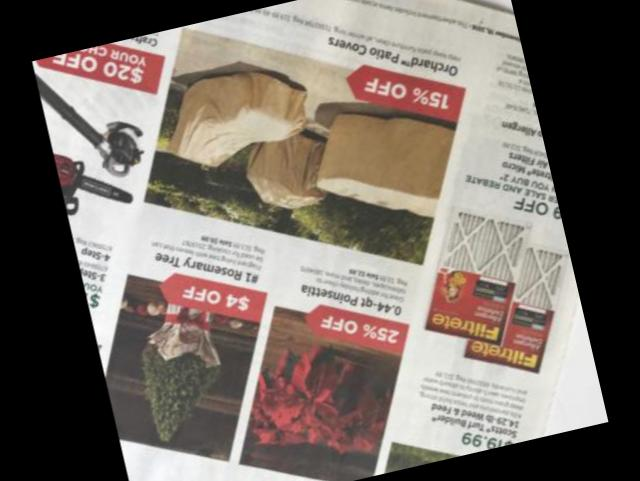cardboard paper: (32, 0, 579, 481)
